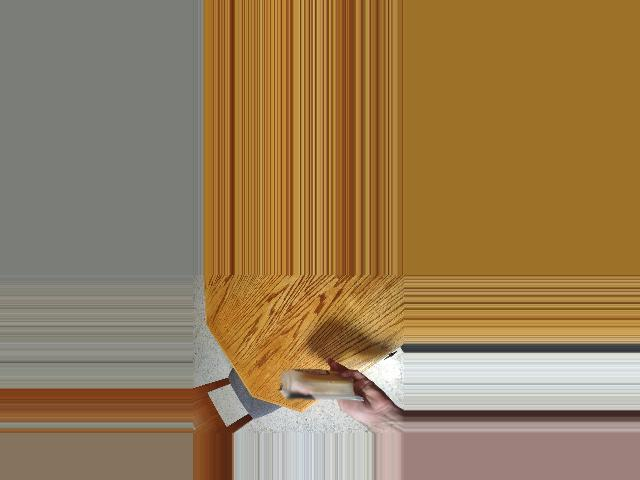cheese: (285, 366, 358, 416)
